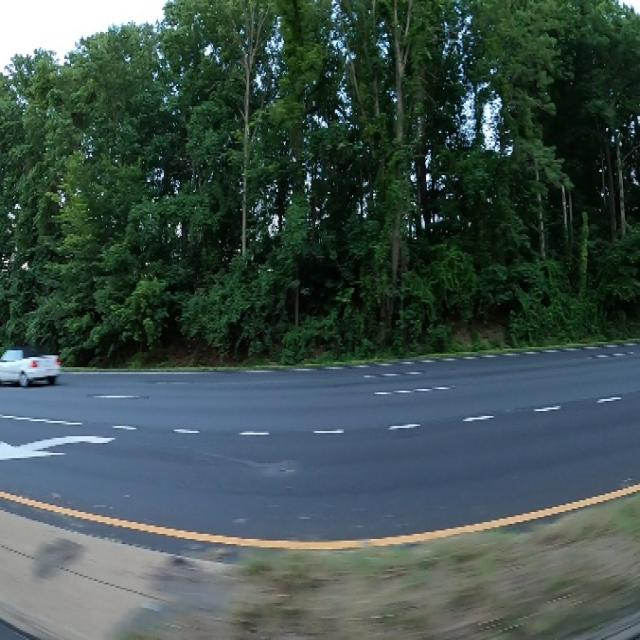cars: (0, 328, 65, 399)
